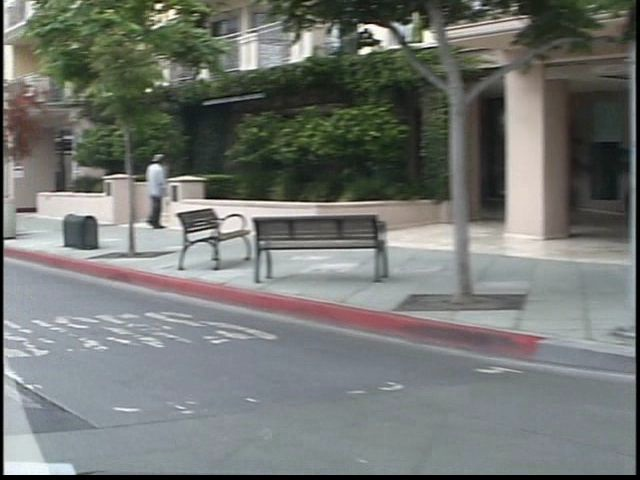person: (124, 149, 163, 238)
